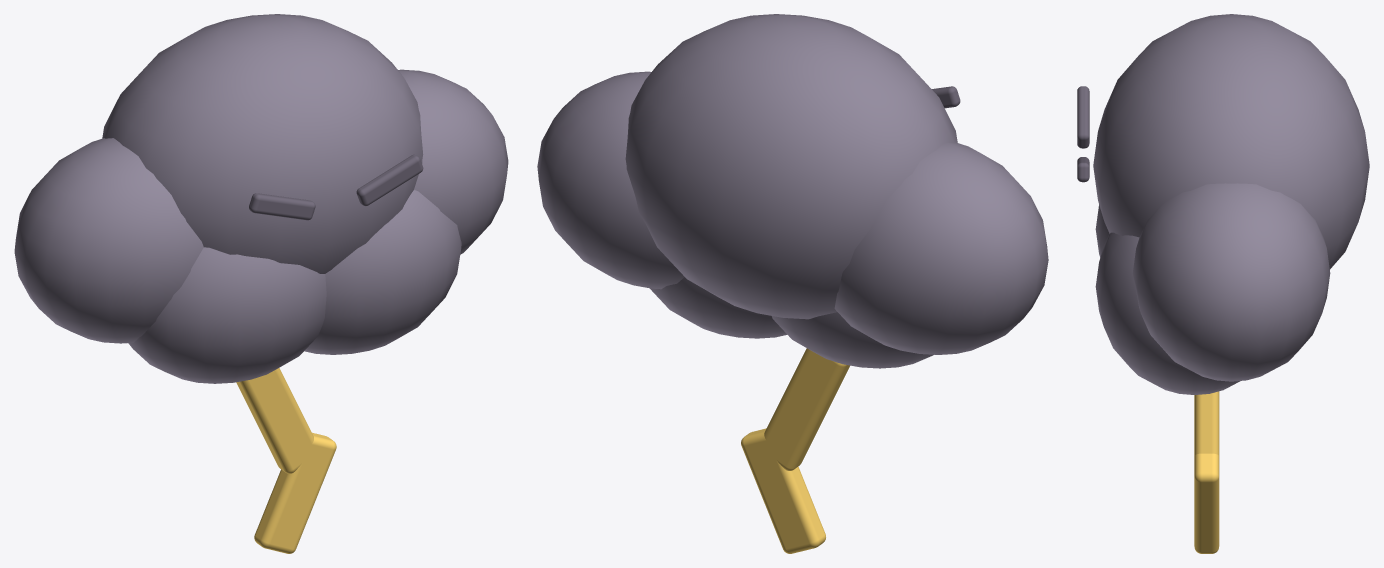
File: emote_cloud.glb
3 renders of one model, left to right at view 1: azimuth 30°, elevation 25°; view 2: azimuth 150°, elevation 25°; view 3: azimuth 270°, elevation 25°, orthographic. The views are drawn at different scales.
Visible parts, largest first — view 1: GrumpyCloud; view 2: GrumpyCloud; view 3: GrumpyCloud.
Boxes of the visible parts, box(x1,y1,x2,y2) form: GrumpyCloud: box(14, 14, 508, 553); GrumpyCloud: box(537, 14, 1048, 553); GrumpyCloud: box(1077, 14, 1369, 553).
Size of the model in its own units: 0.44 by 0.4597 by 0.237.
